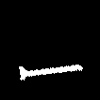half_double_crochet: (19, 65, 82, 79)
